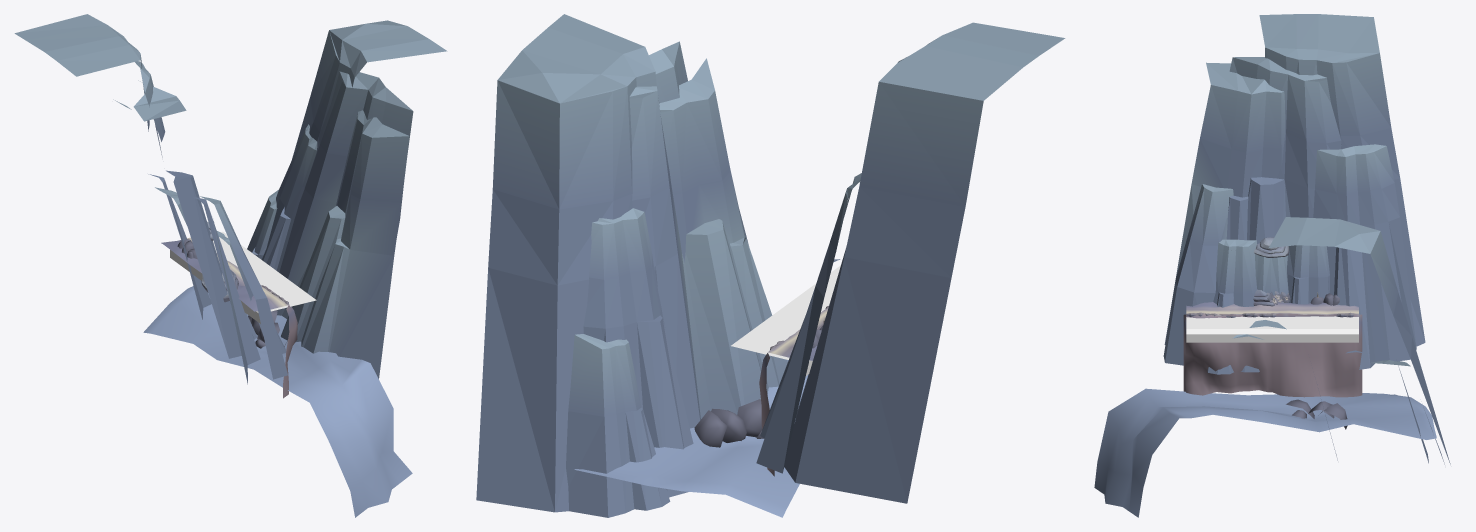
The model's file is Arctic_Narrows_Right_Straight_A.glb.
3 views of the same model, side by side, from view 1: azimuth 30°, elevation 25°; view 2: azimuth 150°, elevation 25°; view 3: azimuth 270°, elevation 25° (orthographic). The views are drawn at different scales.
Visible parts, largest first — view 1: Arctic_Narrows_Left_IceWall_A02 (1), Arctic_Narrows_Right_Straight_A, Arctic_Narrows_Right_IceWall_A02 (1), Arctic_Narrows_Left_IceWall_A02_Left, Arctic_Narrows_Right_IceWall_A02_Left, inv_fill, Arctic_Narrows_Right_IceWall_A02_Right; view 2: Arctic_Narrows_Left_IceWall_A02 (1), Arctic_Narrows_Right_IceWall_A02 (1), Arctic_Narrows_Left_IceWall_A02_Left, Arctic_Narrows_Right_Straight_A, Arctic_Narrows_Right_IceWall_A02_Right, inv_fill, Arctic_Narrows_Left_Rock_A01 (1); view 3: Arctic_Narrows_Right_IceWall_A02 (1), Arctic_Narrows_Right_Straight_A, Arctic_Narrows_Right_IceWall_A02_Right, Arctic_Narrows_Right_IceWall_A02_Left, Arctic_Narrows_Left_IceWall_A02 (1), inv_fill, Arctic_Narrows_Right_IceWall_A02_Mid, Arctic_Narrows_Left_Rock_A01 (1).
Part boxes in pixels (box(x1,y1,x2,y2)): Arctic_Narrows_Left_IceWall_A02 (1): box(277, 20, 447, 378); Arctic_Narrows_Right_Straight_A: box(143, 237, 412, 517); Arctic_Narrows_Right_IceWall_A02 (1): box(14, 14, 260, 384); Arctic_Narrows_Left_IceWall_A02_Left: box(247, 124, 317, 272); Arctic_Narrows_Right_IceWall_A02_Left: box(200, 196, 287, 379); inv_fill: box(170, 231, 316, 323); Arctic_Narrows_Right_IceWall_A02_Right: box(113, 99, 211, 319); Arctic_Narrows_Left_IceWall_A02 (1): box(476, 14, 787, 512); Arctic_Narrows_Right_IceWall_A02 (1): box(784, 22, 1065, 503); Arctic_Narrows_Left_IceWall_A02_Left: box(566, 208, 693, 517); Arctic_Narrows_Right_Straight_A: box(574, 308, 827, 517); Arctic_Narrows_Right_IceWall_A02_Right: box(756, 173, 861, 473); inv_fill: box(731, 265, 840, 375); Arctic_Narrows_Left_Rock_A01 (1): box(694, 399, 763, 447); Arctic_Narrows_Right_IceWall_A02 (1): box(1164, 14, 1425, 346); Arctic_Narrows_Right_Straight_A: box(1094, 302, 1436, 517); Arctic_Narrows_Right_IceWall_A02_Right: box(1313, 144, 1416, 369); Arctic_Narrows_Right_IceWall_A02_Left: box(1163, 184, 1259, 374); Arctic_Narrows_Left_IceWall_A02 (1): box(1220, 217, 1450, 464); inv_fill: box(1186, 316, 1358, 342); Arctic_Narrows_Right_IceWall_A02_Mid: box(1255, 245, 1329, 304); Arctic_Narrows_Left_Rock_A01 (1): box(1286, 399, 1347, 429).
Size of the model in its own units: 24.7 by 26.53 by 22.7.
